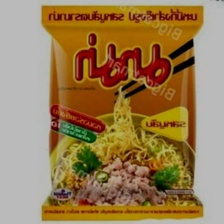snack: (32, 0, 210, 224)
